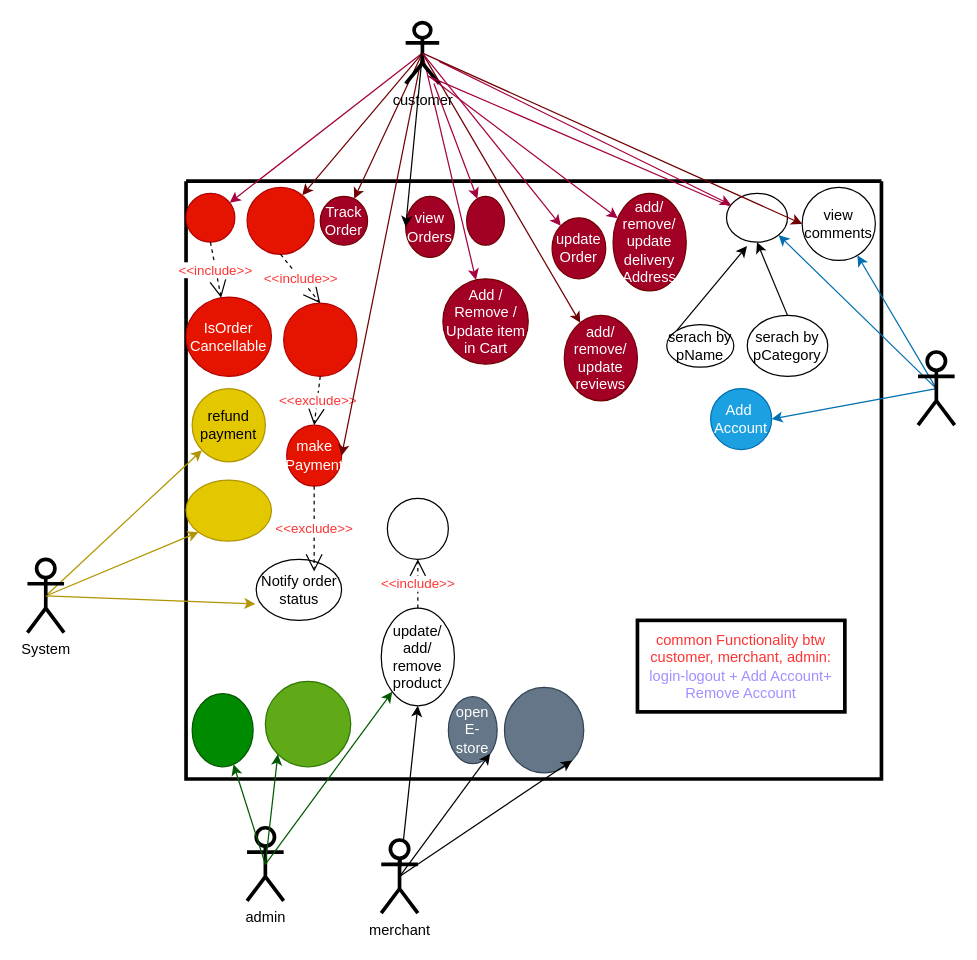
The diagram is 977 pixels wide and 960 high, and some of its shapes have lost their labels. The shapes that lost their labels are listed below. From the top down, each one's centre as x and y in pixels, then its label:
At point 210,217: "cancel Order".
At point 280,220: "checkout cart".
At point 484,220: "view cart".
At point 756,217: "search product".
At point 319,339: "place Order".
At point 936,388: "guest".
At point 228,510: "Notify shipment update".
At point 417,528: "update catalog".
At point 222,729: "block/ unblock Account".
At point 307,723: "add/ remove/ update product Category".
At point 543,729: "add/ remove/ update inventory".
